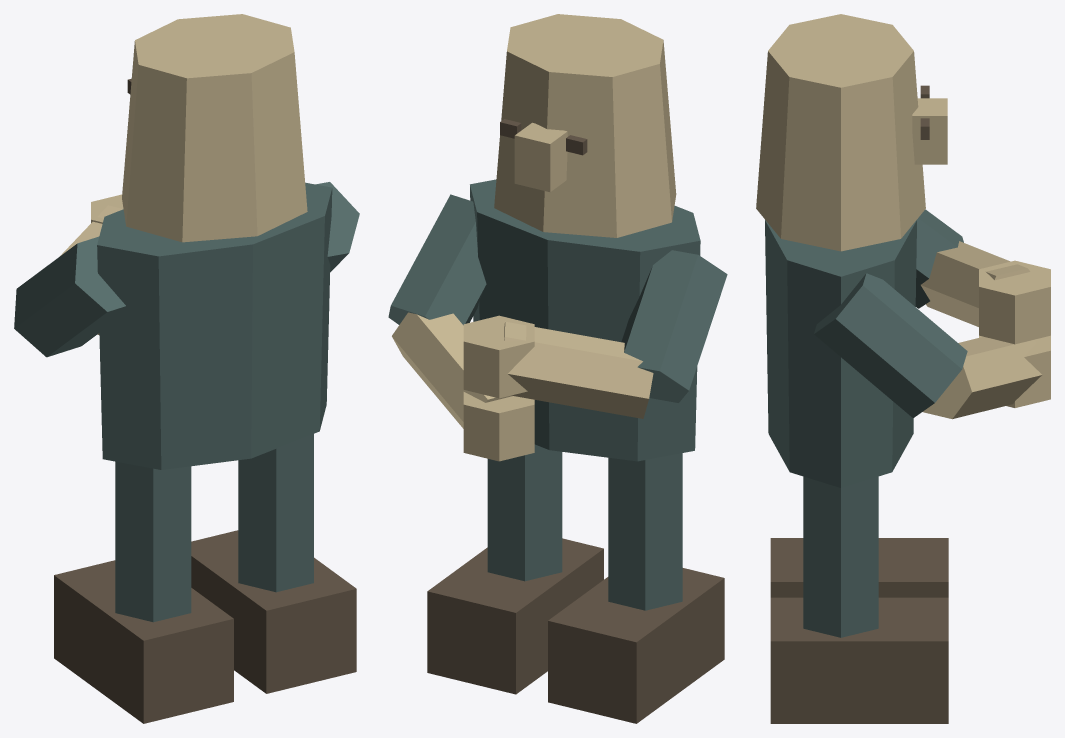
The model's file is Pawn_HumanWarrior.fbx.
3 renders of one model, left to right at view 1: azimuth 30°, elevation 25°; view 2: azimuth 150°, elevation 25°; view 3: azimuth 270°, elevation 25°, orthographic.
Visible parts, largest first — view 1: Pawn_HumanWarrior; view 2: Pawn_HumanWarrior; view 3: Pawn_HumanWarrior.
Boxes of the visible parts, x1,y1,x2,y2 form: Pawn_HumanWarrior: (14, 14, 359, 723); Pawn_HumanWarrior: (388, 14, 727, 723); Pawn_HumanWarrior: (756, 14, 1050, 723).
Size of the model in its own units: 0.8484 by 1.65 by 0.7116.
